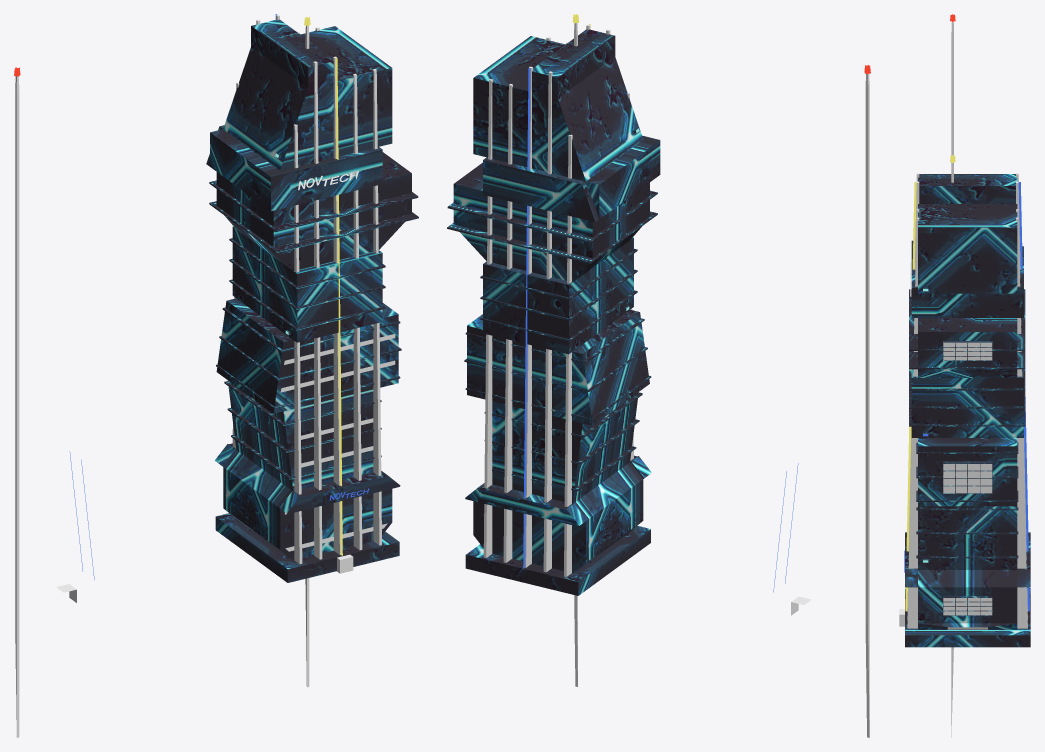
Rendered from building1.gltf.
3 views of the same model, side by side, from view 1: azimuth 30°, elevation 25°; view 2: azimuth 150°, elevation 25°; view 3: azimuth 270°, elevation 25° (orthographic). The views are drawn at different scales.
Visible parts, largest first — view 1: 0_curve_.011, Plane.056, Plane.022, Plane.023, Plane.020, Plane.021, Plane.014, Plane.016, Plane.012, Plane.010, Plane.024; view 2: 0_curve_.011, Plane.056, Plane.027, Plane.026, Plane.029, Plane.030, Plane.028, Plane.016, Plane.012, Plane.010, Plane.025; view 3: 0_curve_.011, Plane.026, Plane.023, 0_curve_.008, 0_curve_.006, Plane.012, Plane.025, Plane.016, Plane.024, Plane.010, 0_curve_.007, Plane.056 (+11 smaller).
Part boxes in pixels (x1=…): 0_curve_.011: x1=206, y1=19, x2=411, y2=582; Plane.056: x1=14, y1=67, x2=20, y2=737; Plane.022: x1=353, y1=73, x2=362, y2=550; Plane.023: x1=372, y1=69, x2=381, y2=545; Plane.020: x1=313, y1=61, x2=322, y2=559; Plane.021: x1=333, y1=56, x2=340, y2=554; Plane.014: x1=293, y1=124, x2=302, y2=564; Plane.016: x1=216, y1=307, x2=401, y2=408; Plane.012: x1=209, y1=180, x2=418, y2=232; Plane.010: x1=209, y1=201, x2=418, y2=252; Plane.024: x1=335, y1=58, x2=342, y2=555; 0_curve_.011: x1=453, y1=29, x2=660, y2=595; Plane.056: x1=864, y1=65, x2=870, y2=737; Plane.027: x1=503, y1=84, x2=512, y2=562; Plane.026: x1=483, y1=79, x2=493, y2=557; Plane.029: x1=543, y1=71, x2=552, y2=572; Plane.030: x1=564, y1=134, x2=572, y2=576; Plane.028: x1=525, y1=66, x2=532, y2=567; Plane.016: x1=464, y1=318, x2=651, y2=420; Plane.012: x1=447, y1=190, x2=657, y2=242; Plane.010: x1=447, y1=211, x2=657, y2=263; Plane.025: x1=523, y1=68, x2=530, y2=568; 0_curve_.011: x1=905, y1=174, x2=1030, y2=647; Plane.026: x1=1016, y1=217, x2=1027, y2=628; Plane.023: x1=907, y1=217, x2=919, y2=628; 0_curve_.008: x1=943, y1=464, x2=992, y2=493; 0_curve_.006: x1=943, y1=598, x2=992, y2=615; Plane.012: x1=909, y1=289, x2=1025, y2=350; Plane.025: x1=1018, y1=182, x2=1029, y2=611; Plane.016: x1=916, y1=442, x2=1018, y2=501; Plane.024: x1=905, y1=182, x2=916, y2=611; Plane.010: x1=909, y1=351, x2=1025, y2=369; 0_curve_.007: x1=943, y1=463, x2=992, y2=493; Plane.056: x1=950, y1=14, x2=955, y2=172.
Bounding box in the file's own units: 9.89 × 17.06 × 3.38.
Materials: 10 (1 with a texture image).
